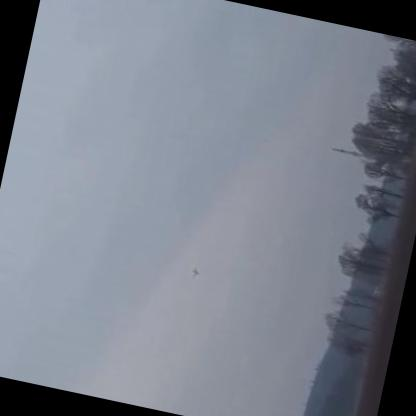plane: (187, 264, 201, 278)
